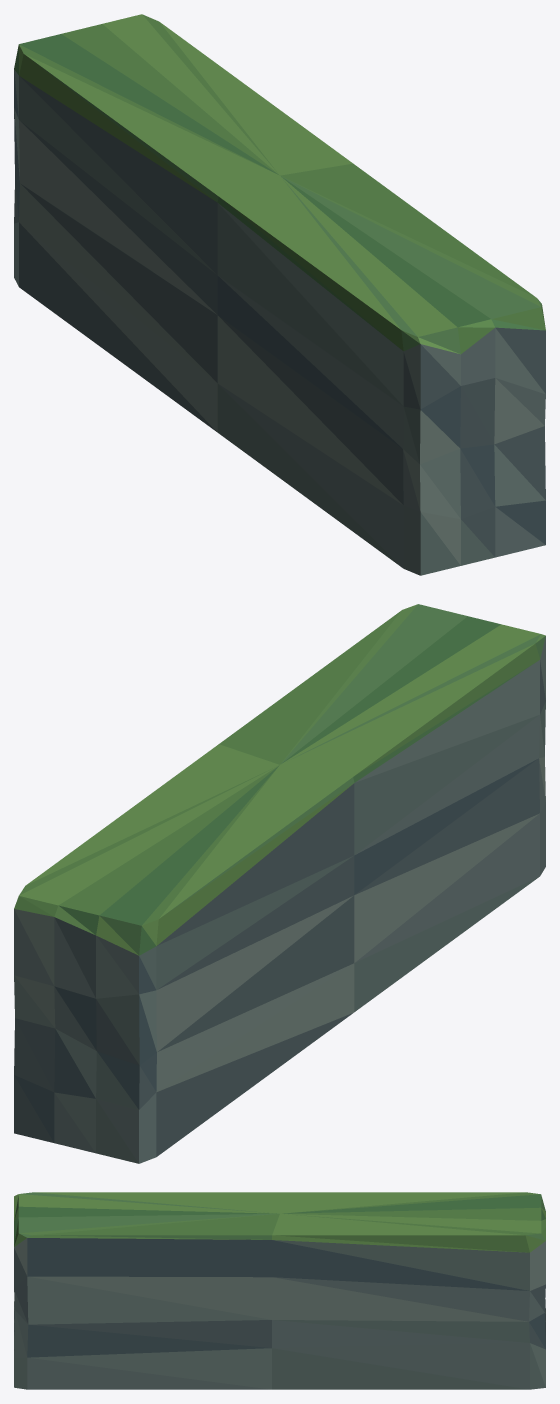
File: east-cliffs.glb
The picture shows the model from 3 angles, top to bottom: view 1: azimuth 30°, elevation 25°; view 2: azimuth 150°, elevation 25°; view 3: azimuth 270°, elevation 25°; orthographic projection. The views are drawn at different scales.
Parts seen in each view (by area): view 1: east-cliffs; view 2: east-cliffs; view 3: east-cliffs.
Boxes of the visible parts, x1,y1,x2,y2 form: east-cliffs: (14,14,545,575); east-cliffs: (14,604,545,1163); east-cliffs: (14,1192,545,1389).
Size of the model in its own units: 14 by 23 by 72.
Materials: 1 (1 with a texture image).
